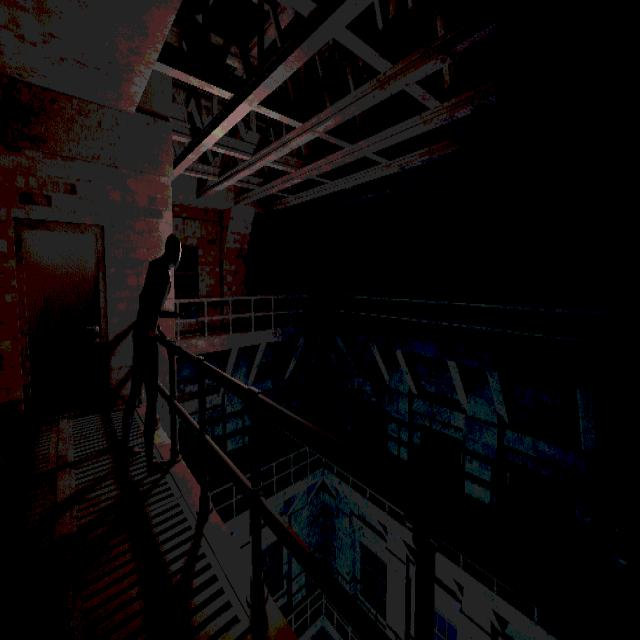door: (25, 222, 101, 412)
